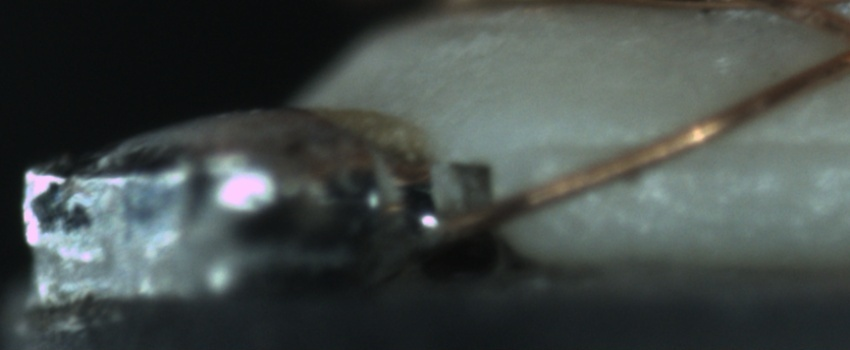DL: (543, 111, 850, 181)
